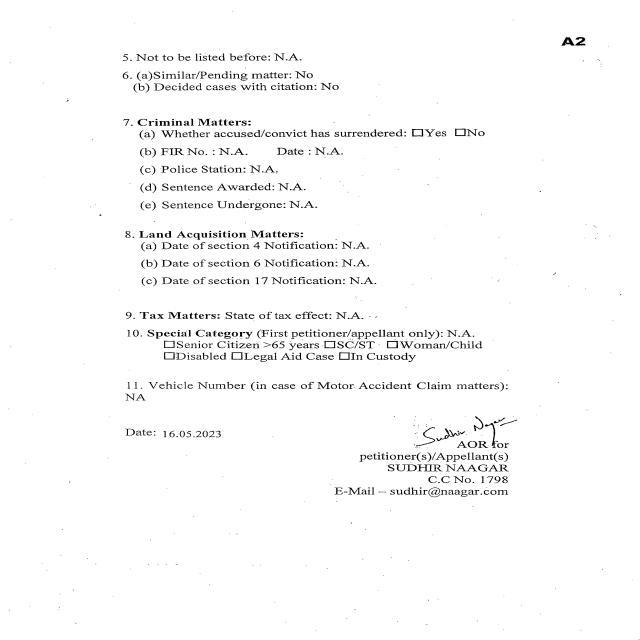page-number: (466, 0, 638, 49)
